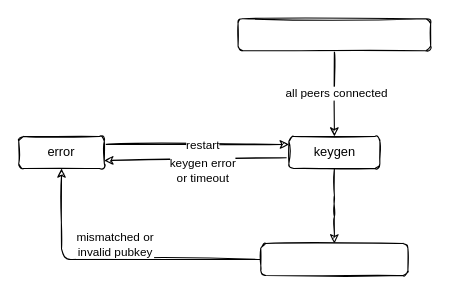
Image size: 449x294. Some labels were removed from this diagram. The shapes that lost their labels are listed below. From the top down, each one's centre as x and y in pixels, then its label:
At [334,34]: "connect to all other peers".
At [334,259]: "verify public key".
